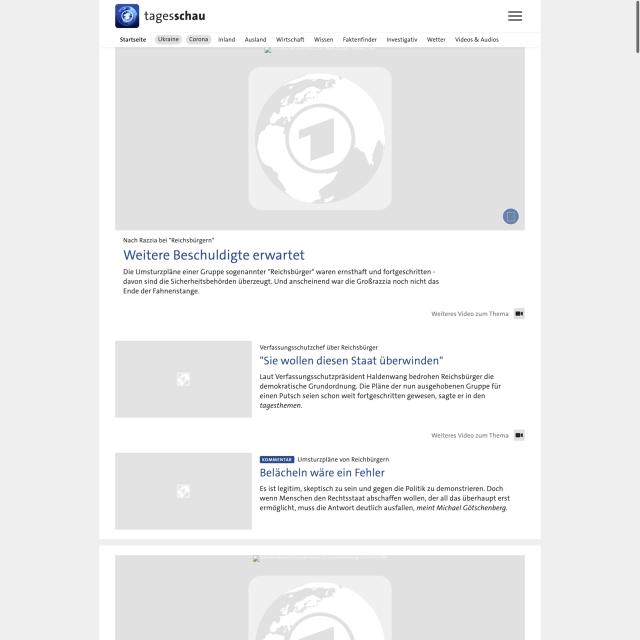logo: (113, 2, 209, 30)
navigation: (116, 35, 503, 44), (502, 7, 526, 24)
